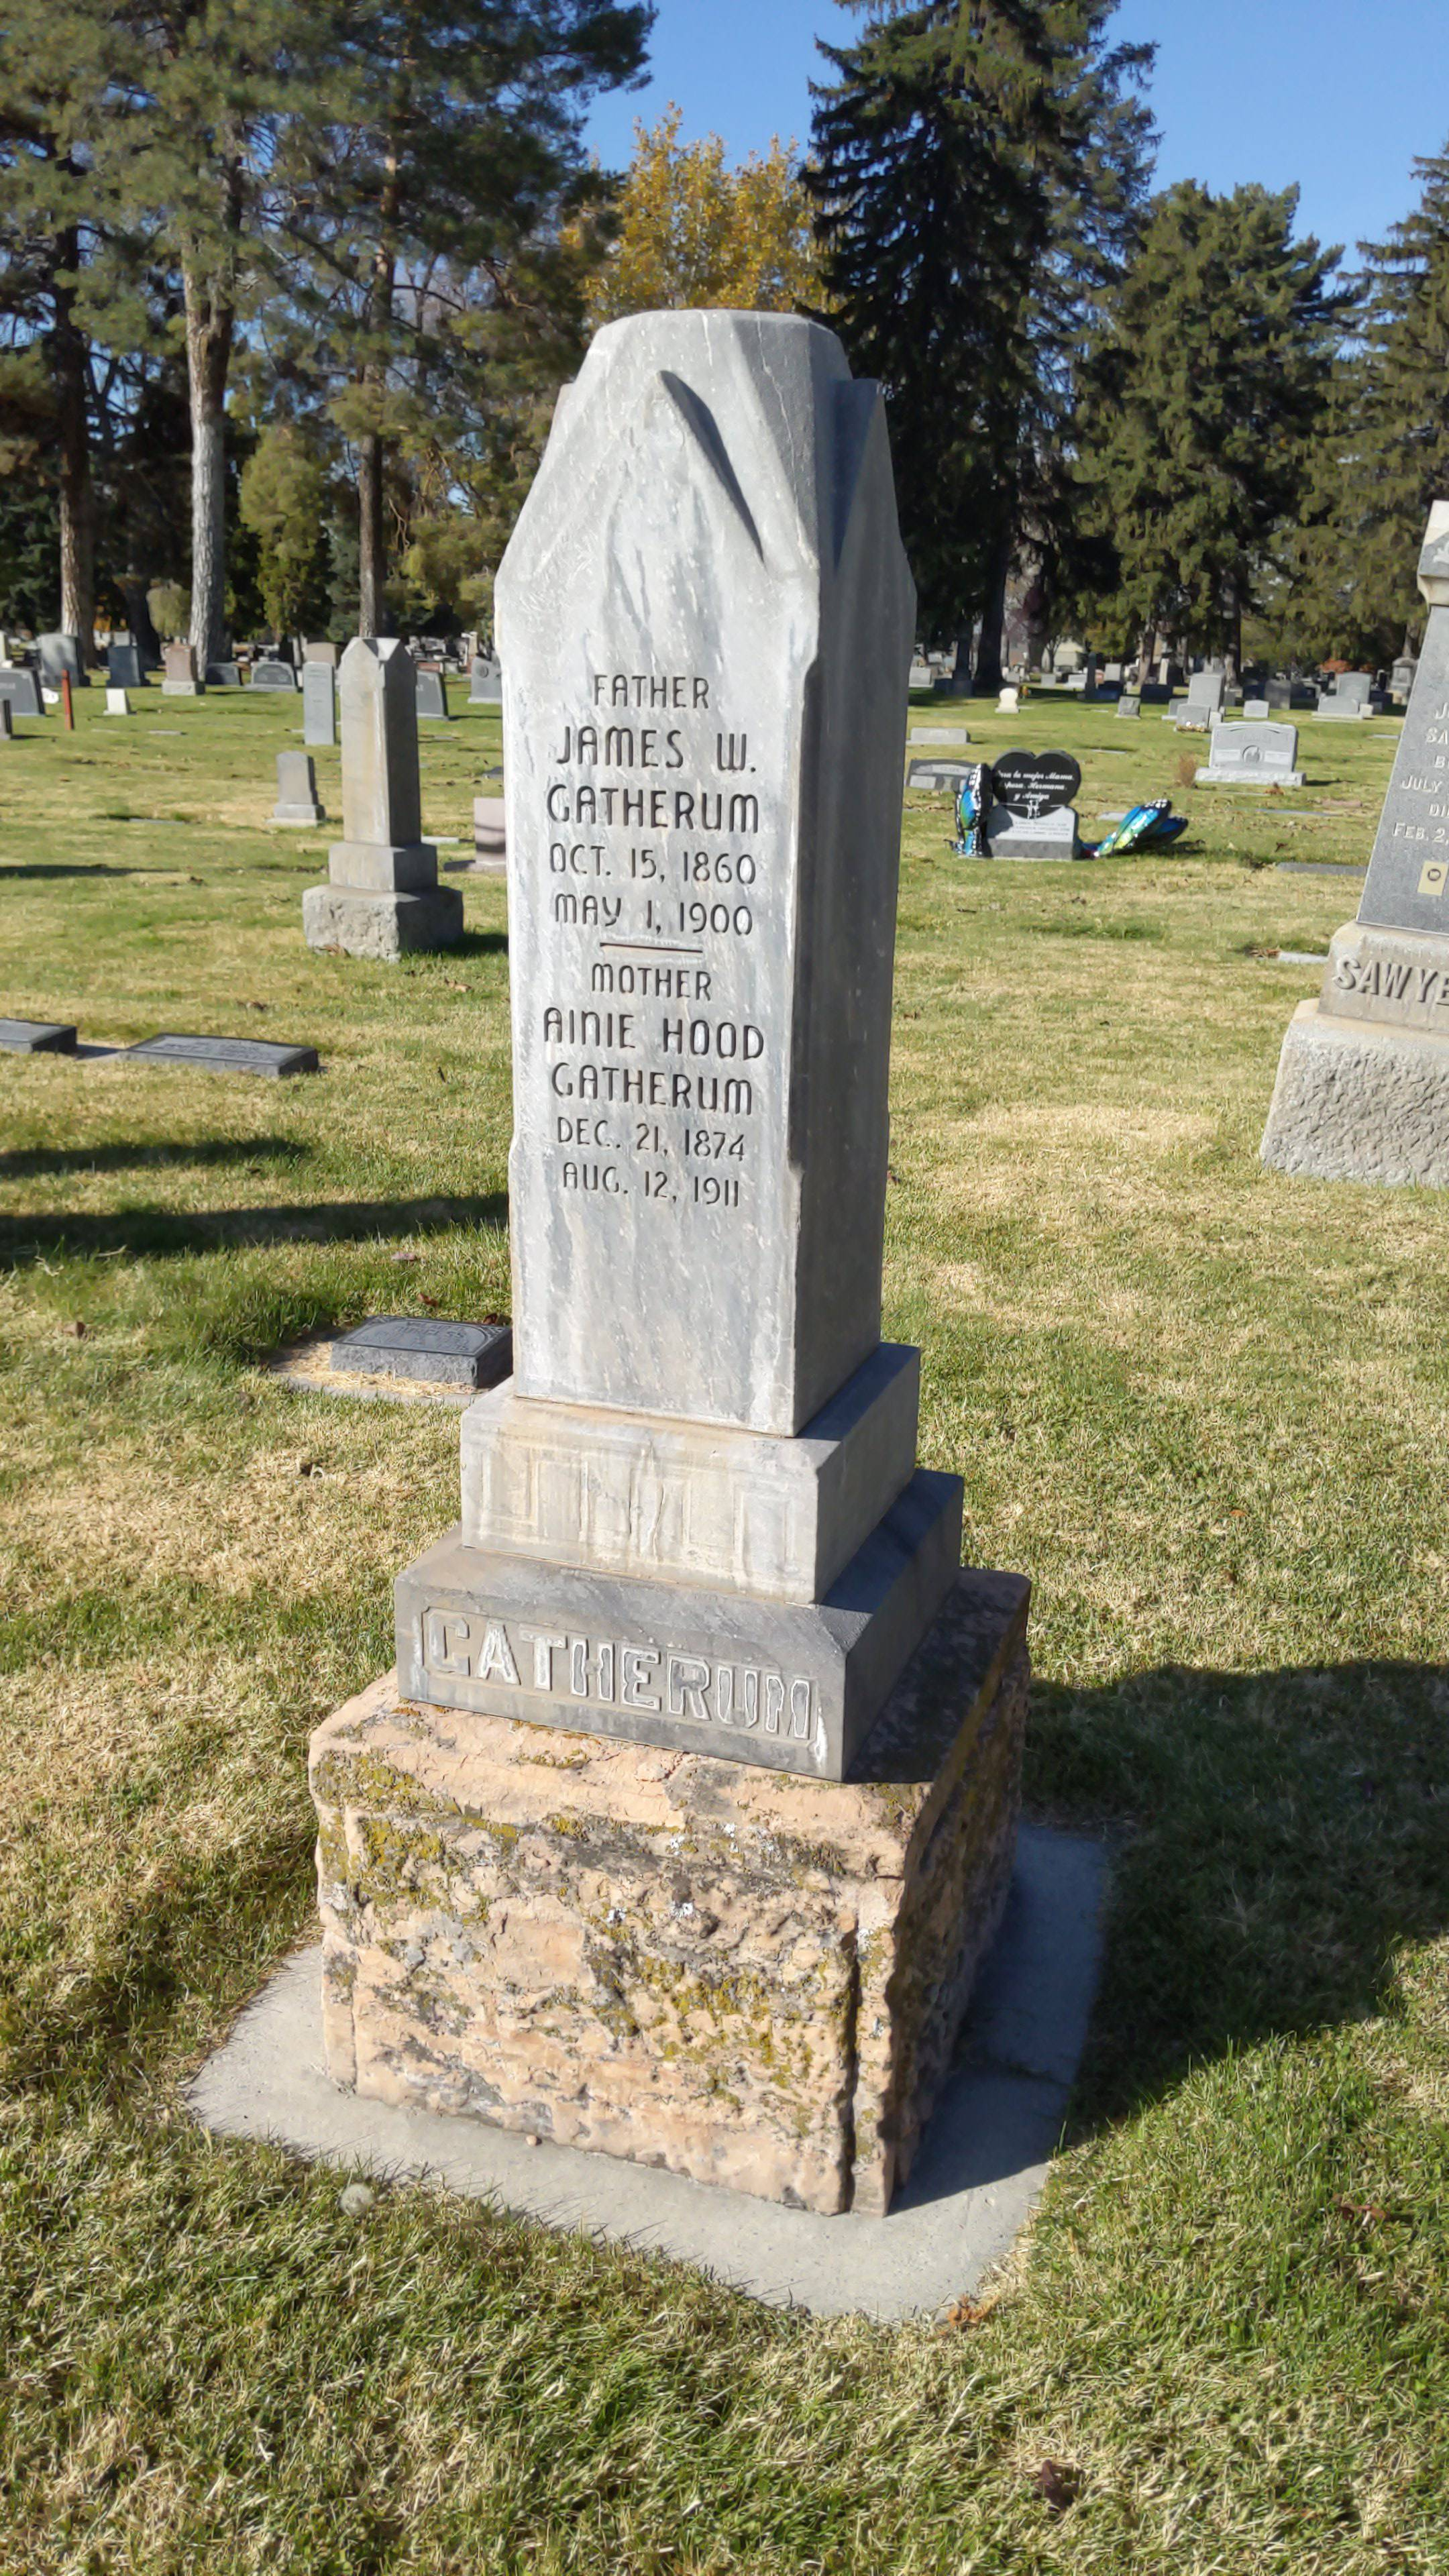obelisk: (395, 306, 968, 1785)
